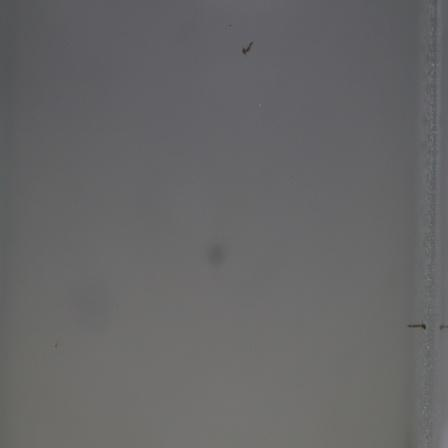Jentik-Nyamuk: (402, 318, 431, 334), (237, 37, 256, 61)
